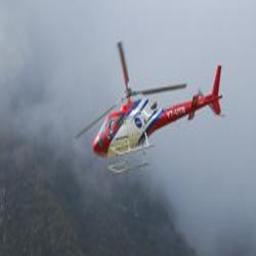helicopter: (78, 44, 224, 177)
